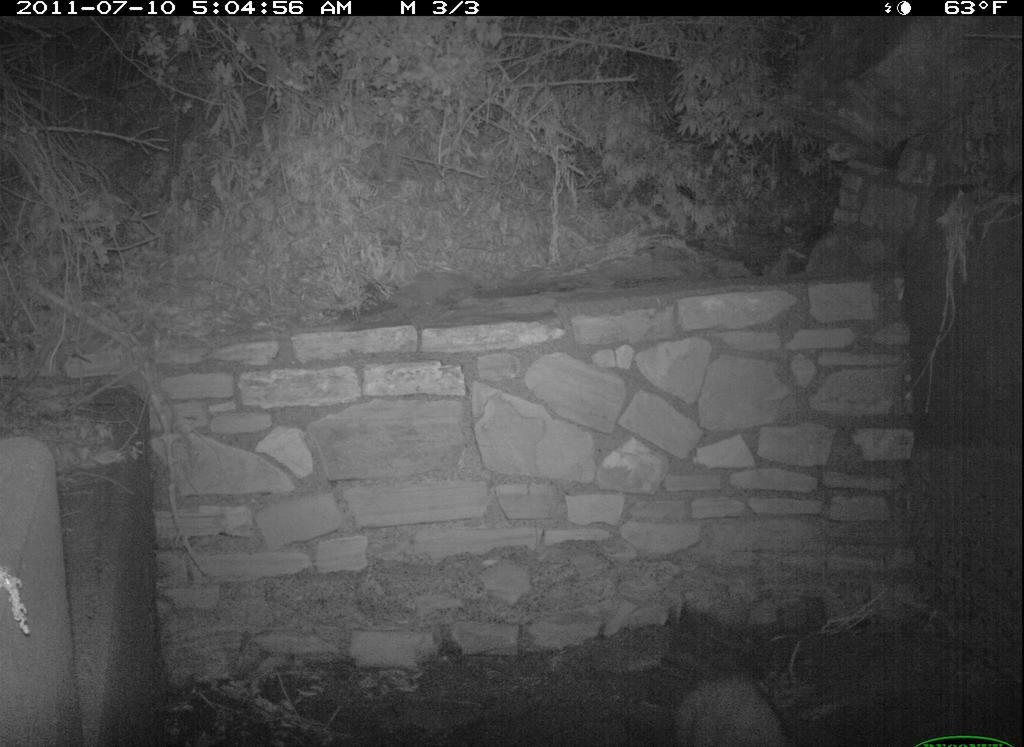raccoon: (667, 657, 825, 743)
